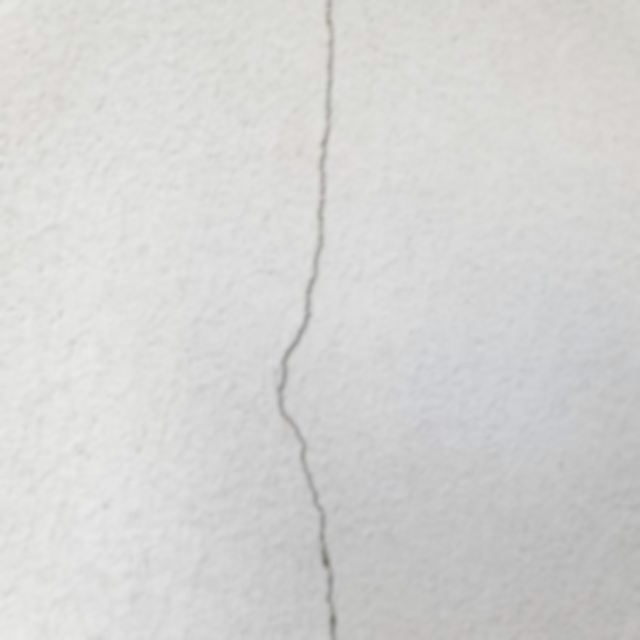SurfaceCrack: (241, 0, 379, 639)
